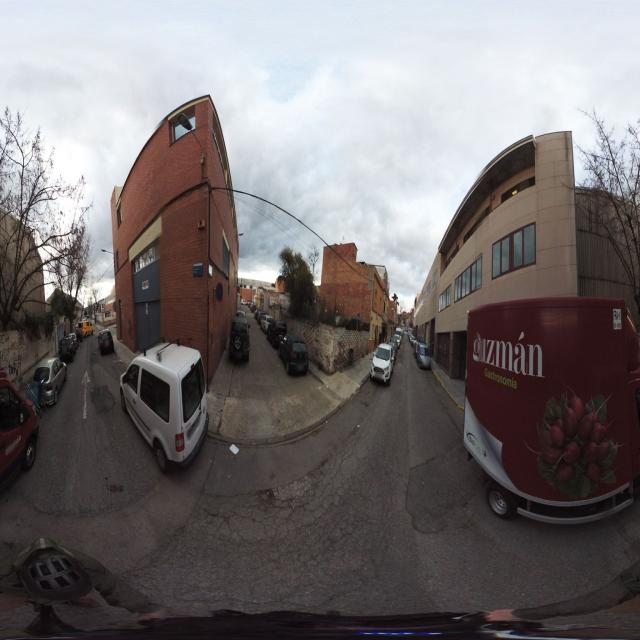forb_stopping: (215, 281, 223, 304)
